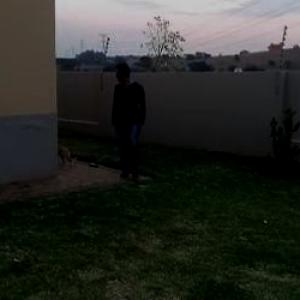follow: (108, 59, 150, 187)
